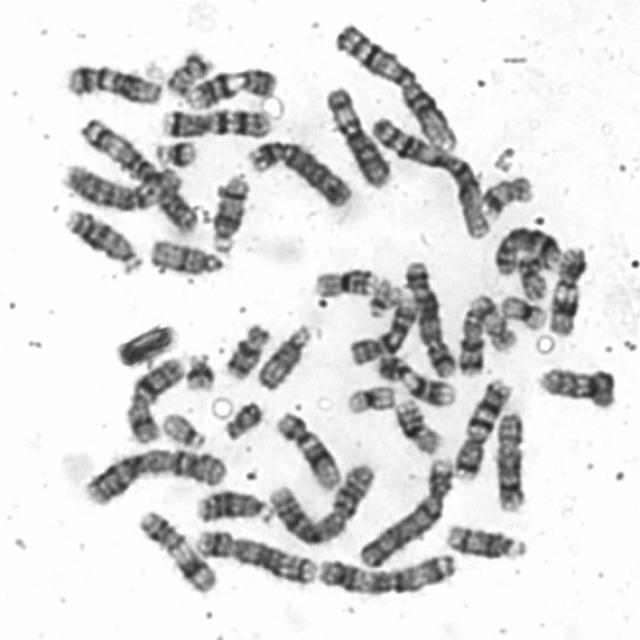A1: (332, 21, 458, 152), (369, 112, 492, 242)
A2: (78, 443, 231, 507), (266, 458, 378, 545)
A3: (74, 114, 201, 237), (314, 549, 458, 597)
B4: (354, 452, 455, 569), (243, 135, 353, 209)
B5: (190, 525, 320, 585), (400, 256, 457, 378)
C10: (346, 294, 422, 366), (540, 362, 620, 413)
C11: (132, 506, 218, 595), (544, 243, 588, 337)
C12: (272, 407, 342, 493), (62, 58, 162, 105)
C6: (49, 153, 182, 214), (323, 82, 392, 189)
C7: (450, 375, 514, 480), (157, 104, 273, 140)
C8: (490, 222, 562, 278), (492, 407, 528, 514)
C9: (371, 350, 458, 408), (182, 63, 279, 111)
D13: (61, 204, 142, 276), (192, 486, 274, 526)
D14: (207, 172, 251, 255), (442, 520, 528, 561)
D15: (253, 320, 321, 392), (147, 235, 225, 277)
E16: (391, 394, 444, 456), (307, 263, 380, 298)
E17: (466, 292, 519, 354), (478, 172, 534, 222)
E18: (221, 319, 272, 382), (456, 313, 489, 380)
F19: (497, 291, 549, 331), (342, 381, 397, 416)
F20: (163, 48, 215, 96), (514, 251, 550, 302)
G21: (150, 136, 200, 170), (182, 350, 218, 392)
G22: (159, 408, 209, 451), (363, 277, 401, 319)
X: (120, 354, 187, 446)
Y: (220, 397, 266, 442)
